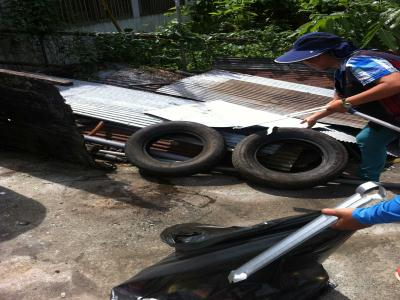tire: (230, 126, 351, 192), (122, 120, 227, 179)
